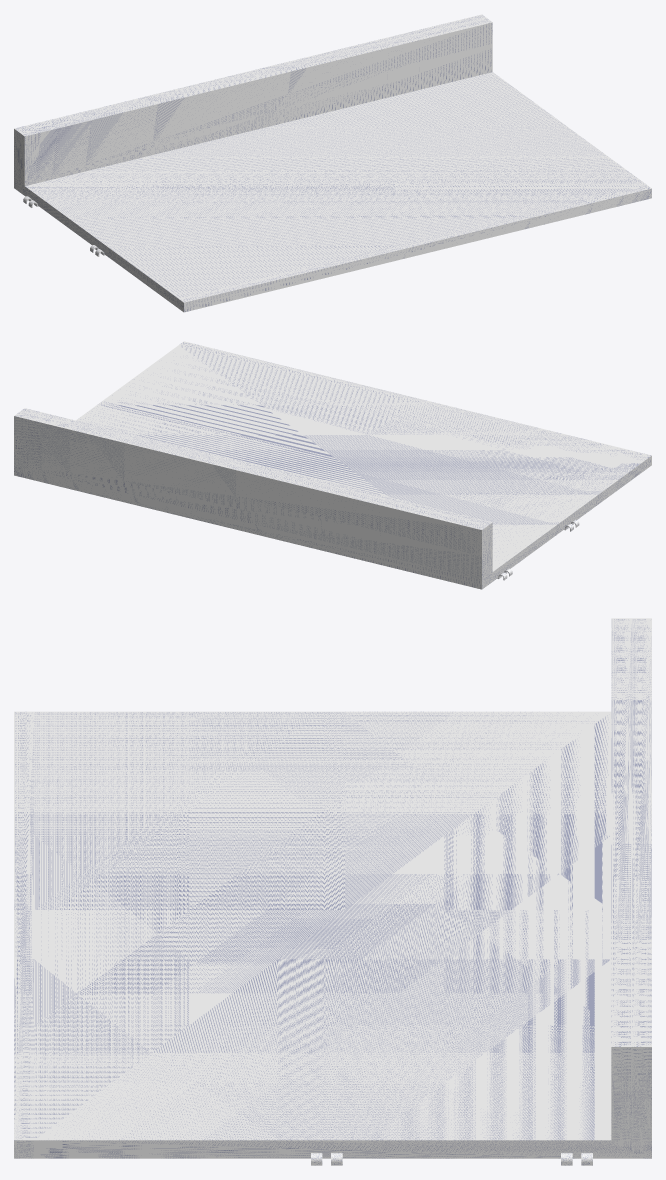
The model's file is big shelf.fbx.
3 renders of one model, top to bottom at view 1: azimuth 30°, elevation 25°; view 2: azimuth 150°, elevation 25°; view 3: azimuth 270°, elevation 25°, orthographic. The views are drawn at different scales.
Visible parts, largest first — view 1: Model; view 2: Model; view 3: Model.
Part boxes in pixels (x1,y1,x2,y2): Model: (14, 14, 651, 312); Model: (14, 341, 651, 589); Model: (14, 618, 651, 1165).
Bounding box in the file's own units: 770 × 92.4 × 472.
